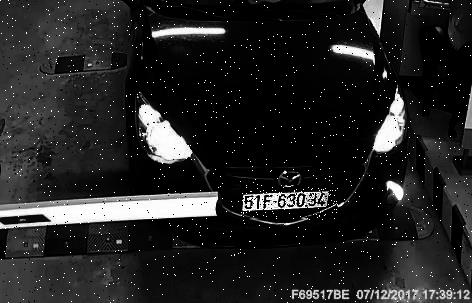License-plate: (243, 187, 340, 221)
